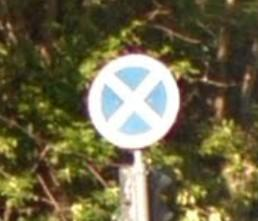No Parking: (88, 56, 182, 151)
